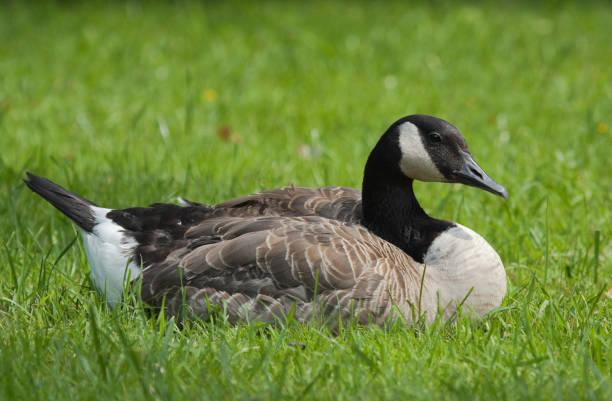Canadian-Goose: (21, 114, 506, 328)
